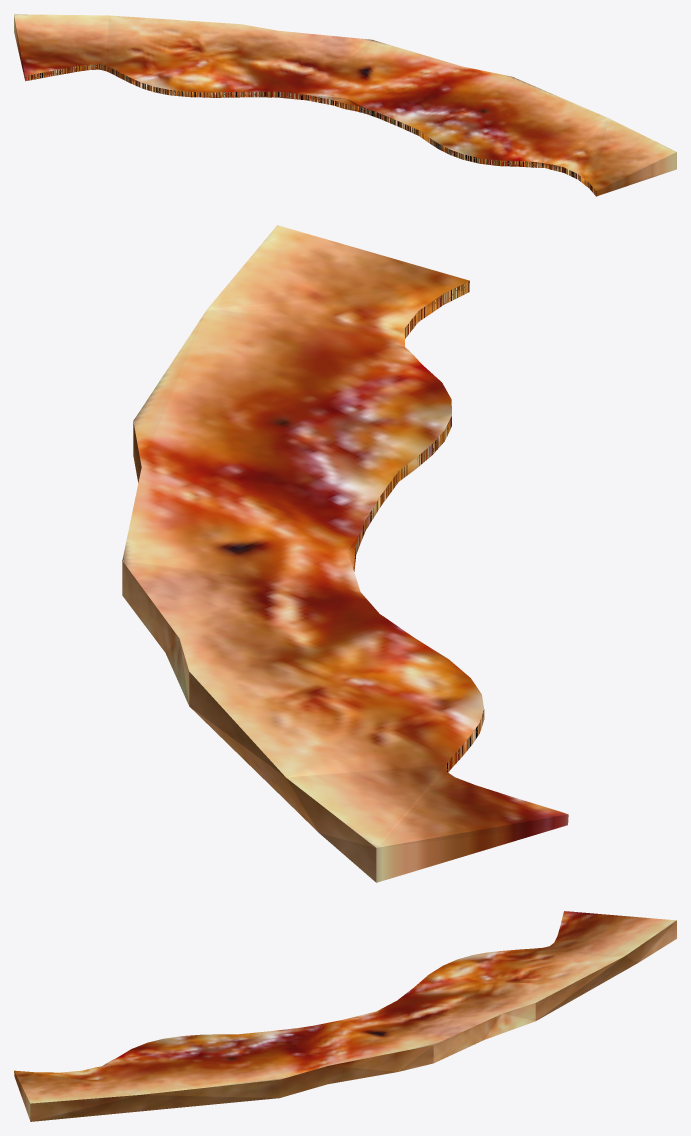
The model's file is Pizza remains.FBX.
3 views of the same model, one above another, from view 1: azimuth 30°, elevation 25°; view 2: azimuth 150°, elevation 25°; view 3: azimuth 270°, elevation 25° (orthographic). The views are drawn at different scales.
Parts seen in each view (by area): view 1: pizza remains; view 2: pizza remains; view 3: pizza remains.
Boxes of the visible parts, <box> form: pizza remains: <box>14,14,676,196</box>; pizza remains: <box>122,225,568,882</box>; pizza remains: <box>14,911,676,1121</box>.
Size of the model in its own units: 178 by 243 by 8.34.
1 material, 1 textured.
